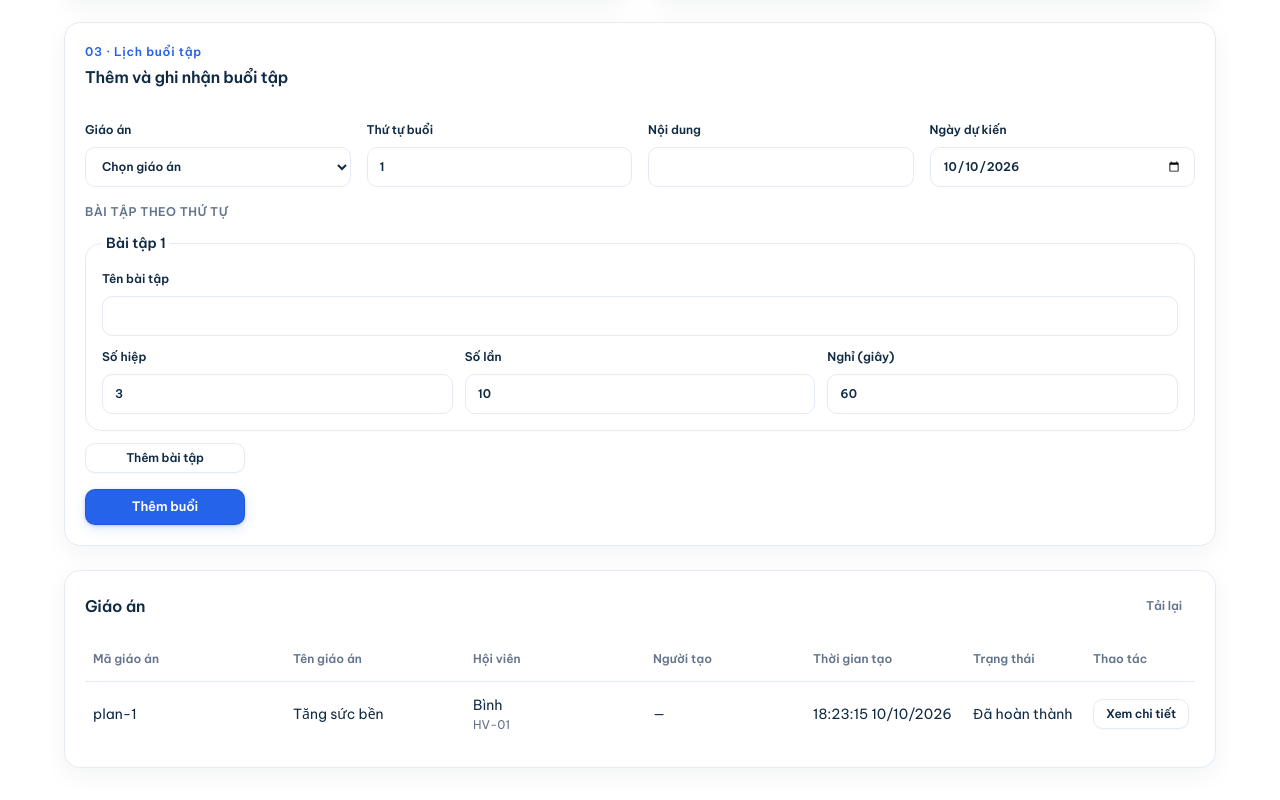
TrainingPage › keeps completed plans inspectable with their session exercises
(page scrolled)
Click the button "Xem chi tiết" at (1141, 714), box [1093,699,1189,729]
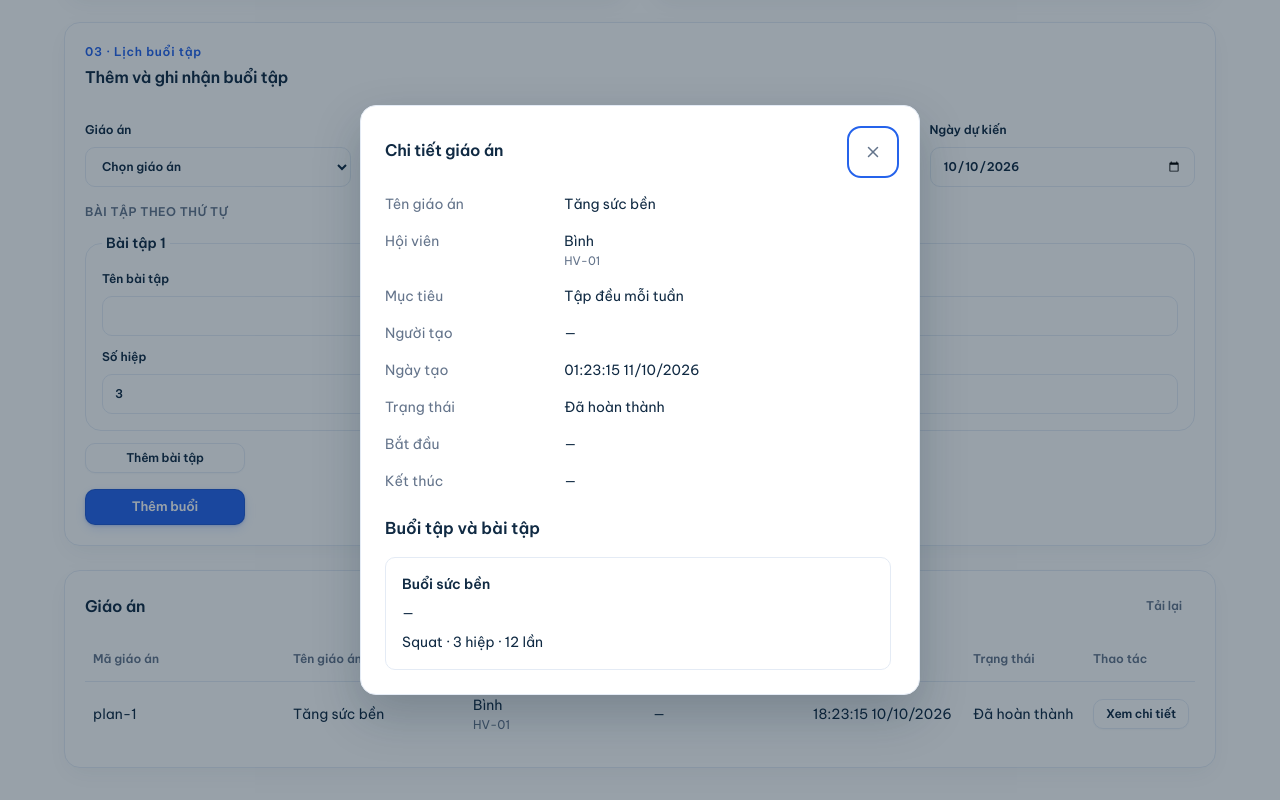
Result: the text "Tập đều mỗi tuần" is shown at [564,287,684,305]
Result: the text "Squat · 3 hiệp · 12 lần" is shown at [402,632,543,650]
